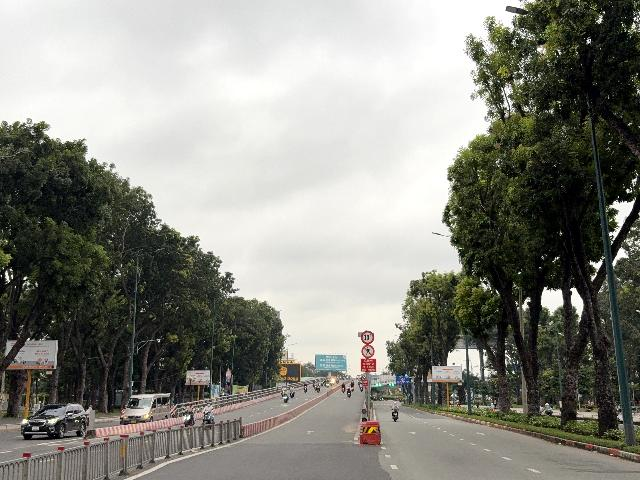cam-nguoi-di-bo: (361, 345, 375, 358)
han-che-trong-luong-xe: (361, 330, 375, 344)
